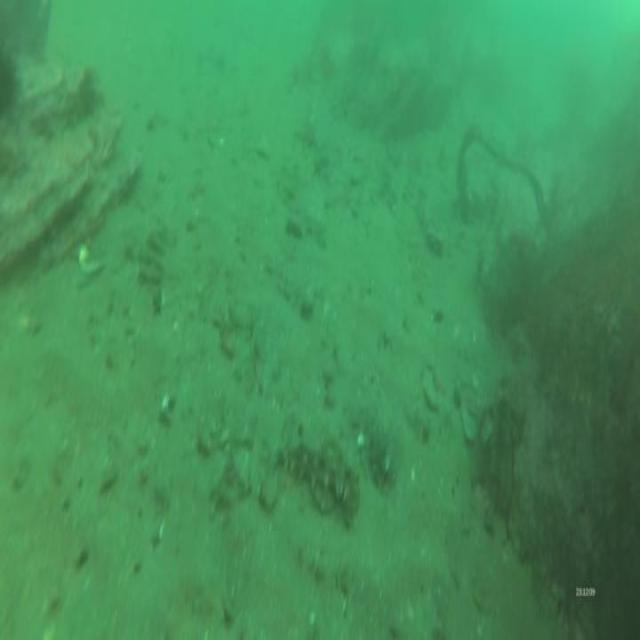holothurian: (276, 424, 362, 523)
waterweeds: (493, 147, 640, 640)
